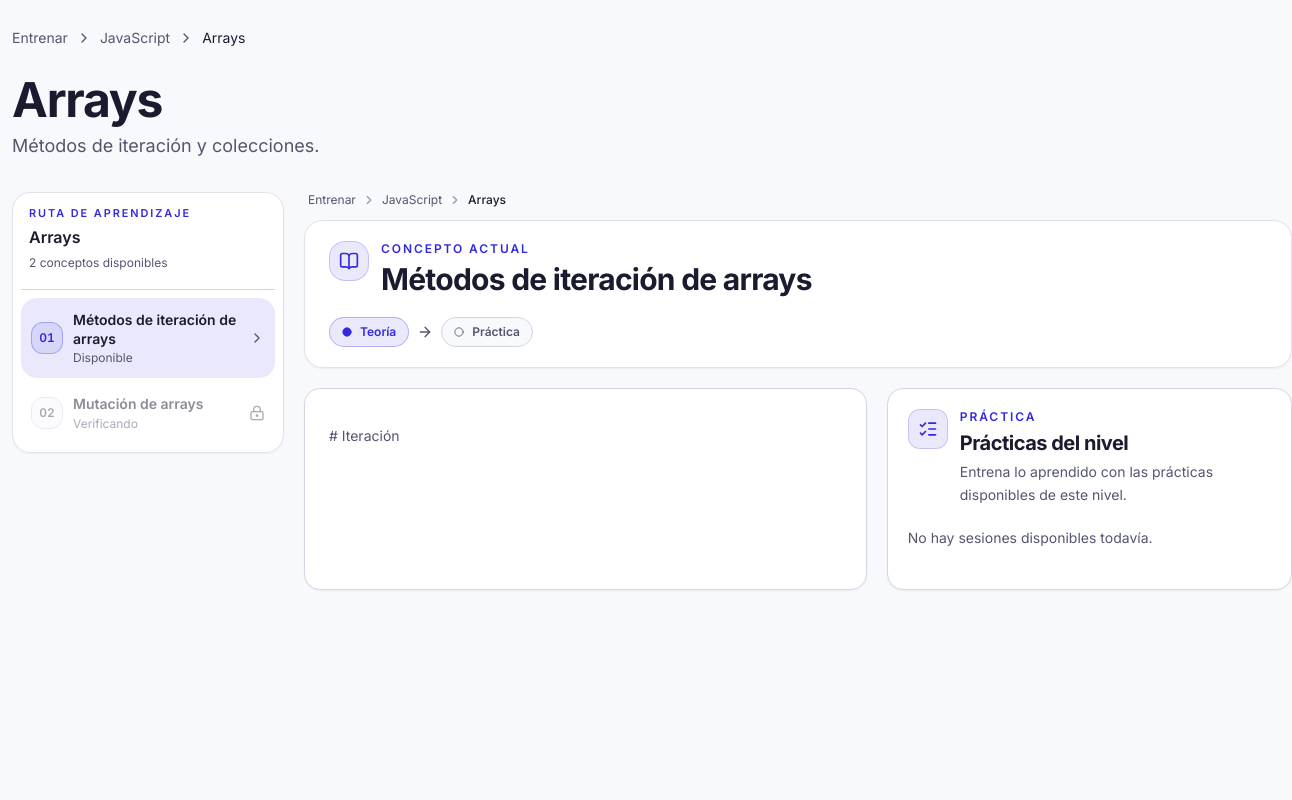
Scenario: TopicPage (T057) › mantiene deshabilitado un concepto staged mientras su estado canónico está verificándose
The width and height of the screenshot is (1292, 800).
Step 1. Click the button "02 Mutación de arrays Verificando" → (148, 413), box [21,382,275,444]
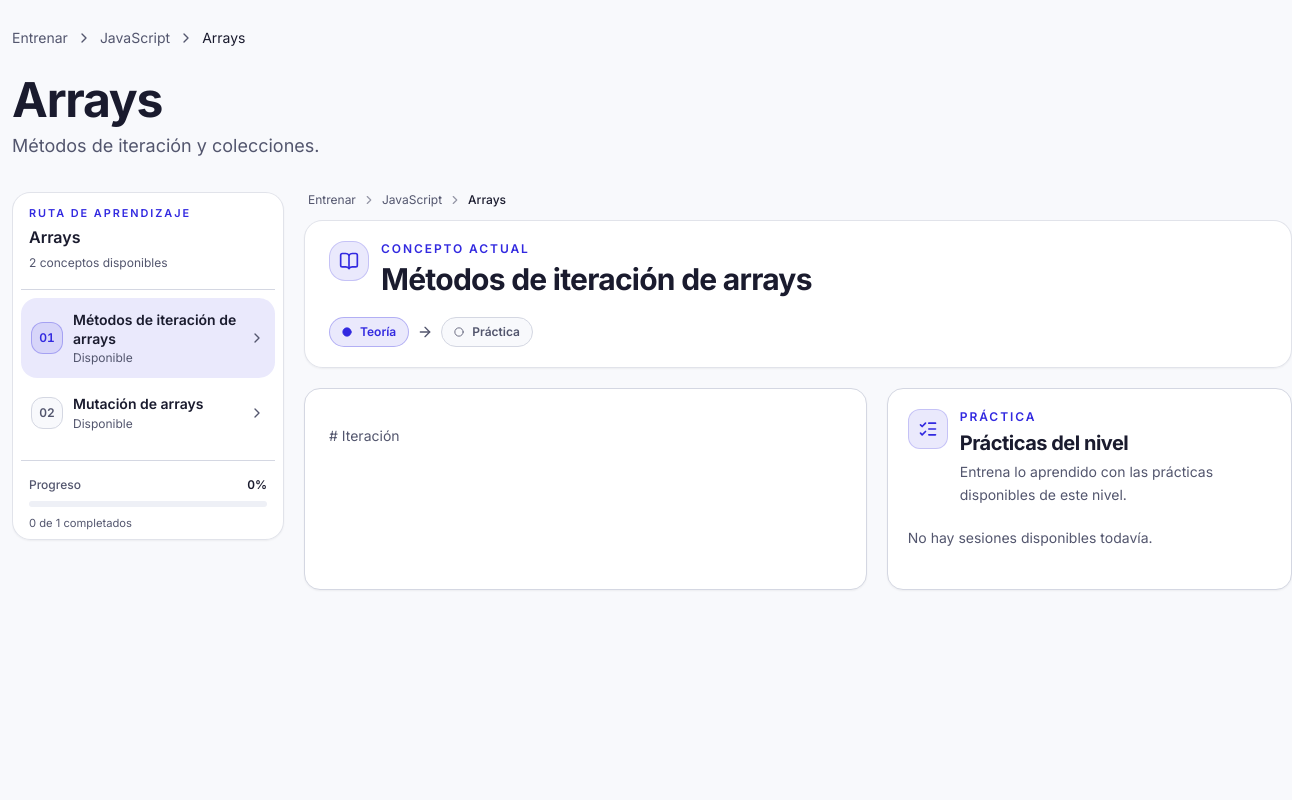
Expected: the button "02 Mutación de arrays Disponible" is enabled, [21,382,275,444]
Expected: the button "02 Mutación de arrays Disponible" is shown, [21,382,275,444]
